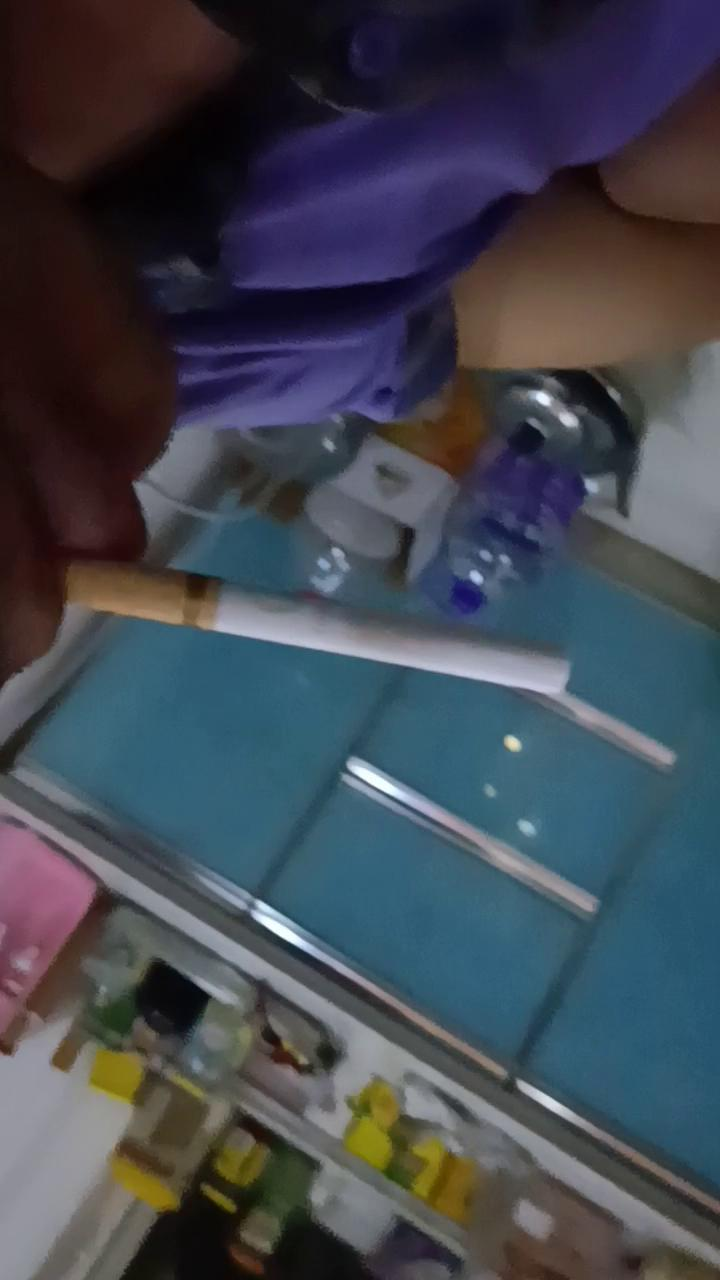smoke: (63, 560, 574, 696)
